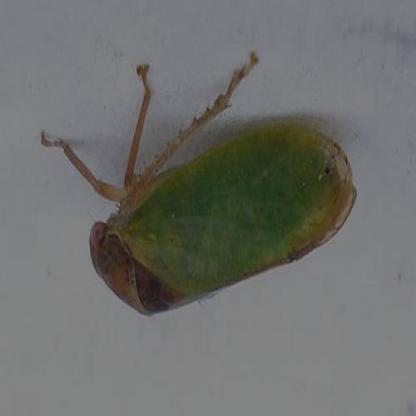green-leafhopper: (79, 108, 356, 318)
